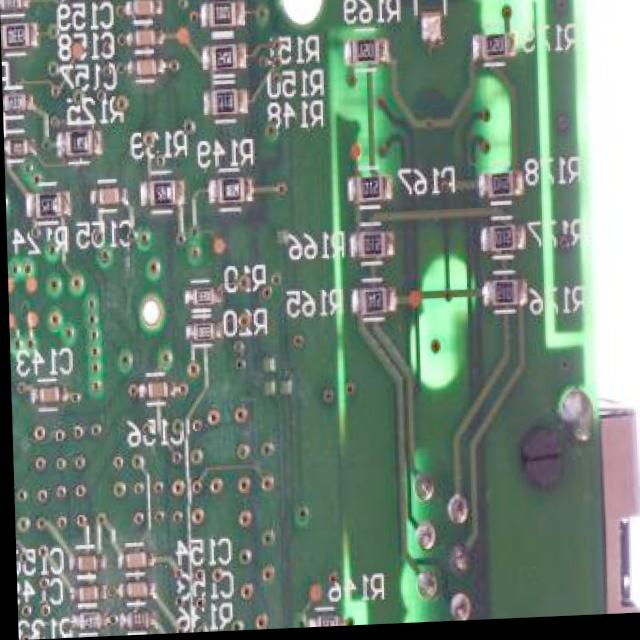capacitor: (96, 185, 121, 209), (134, 27, 158, 50), (135, 57, 159, 80), (35, 383, 58, 406), (144, 380, 167, 403), (122, 551, 147, 572), (122, 579, 147, 600), (73, 553, 96, 574), (74, 583, 97, 604), (133, 0, 156, 20)
resistor: (208, 42, 239, 77), (489, 279, 520, 314), (485, 172, 516, 207), (486, 224, 517, 259), (32, 189, 63, 223), (356, 288, 387, 322), (353, 175, 384, 209), (147, 178, 178, 211), (214, 176, 245, 209), (357, 232, 387, 266), (63, 127, 94, 159), (209, 87, 239, 120), (207, 0, 237, 32), (350, 37, 380, 68), (480, 37, 509, 68), (1, 22, 29, 52), (189, 286, 216, 313), (189, 320, 216, 346), (5, 134, 30, 160), (123, 609, 148, 634), (2, 90, 27, 115), (75, 612, 100, 634), (313, 614, 338, 630), (0, 0, 24, 13)
